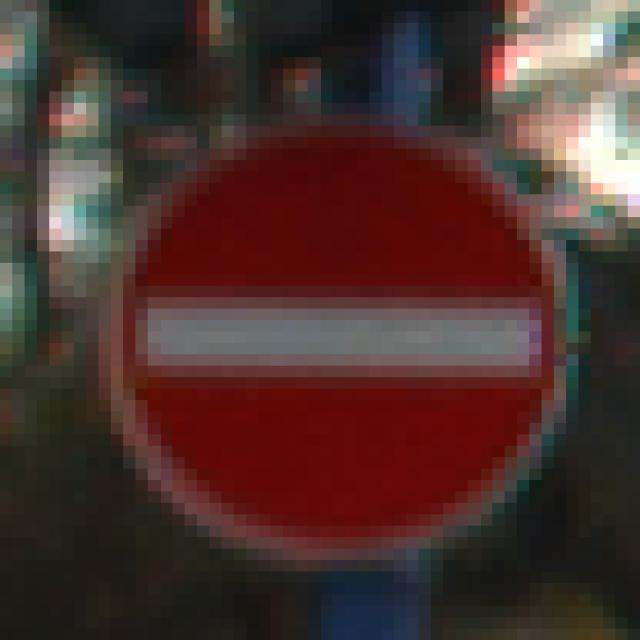No Entry: (63, 69, 567, 584)
